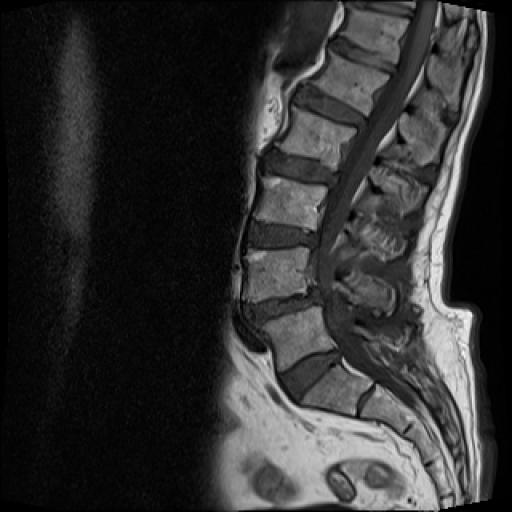L1: (312, 49, 389, 115)
L2: (277, 107, 356, 172)
L3: (253, 176, 328, 231)
L4: (244, 248, 308, 302)
L5: (263, 306, 335, 370)
S1: (301, 364, 372, 416)
